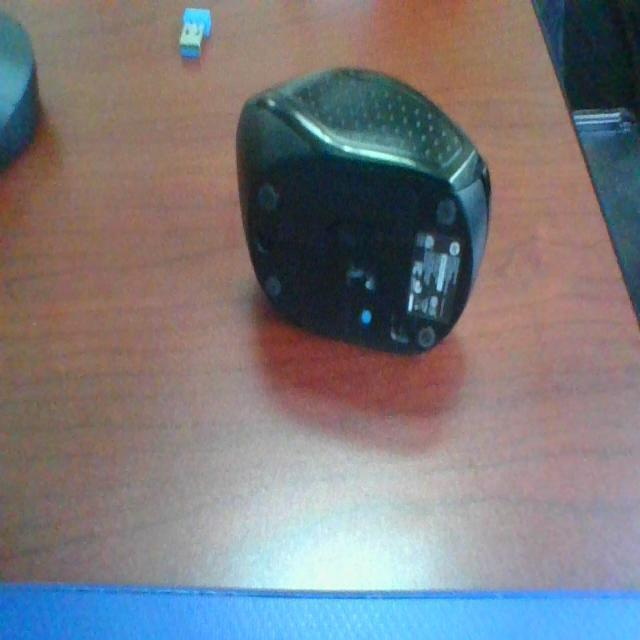Mouse: (233, 59, 507, 370)
